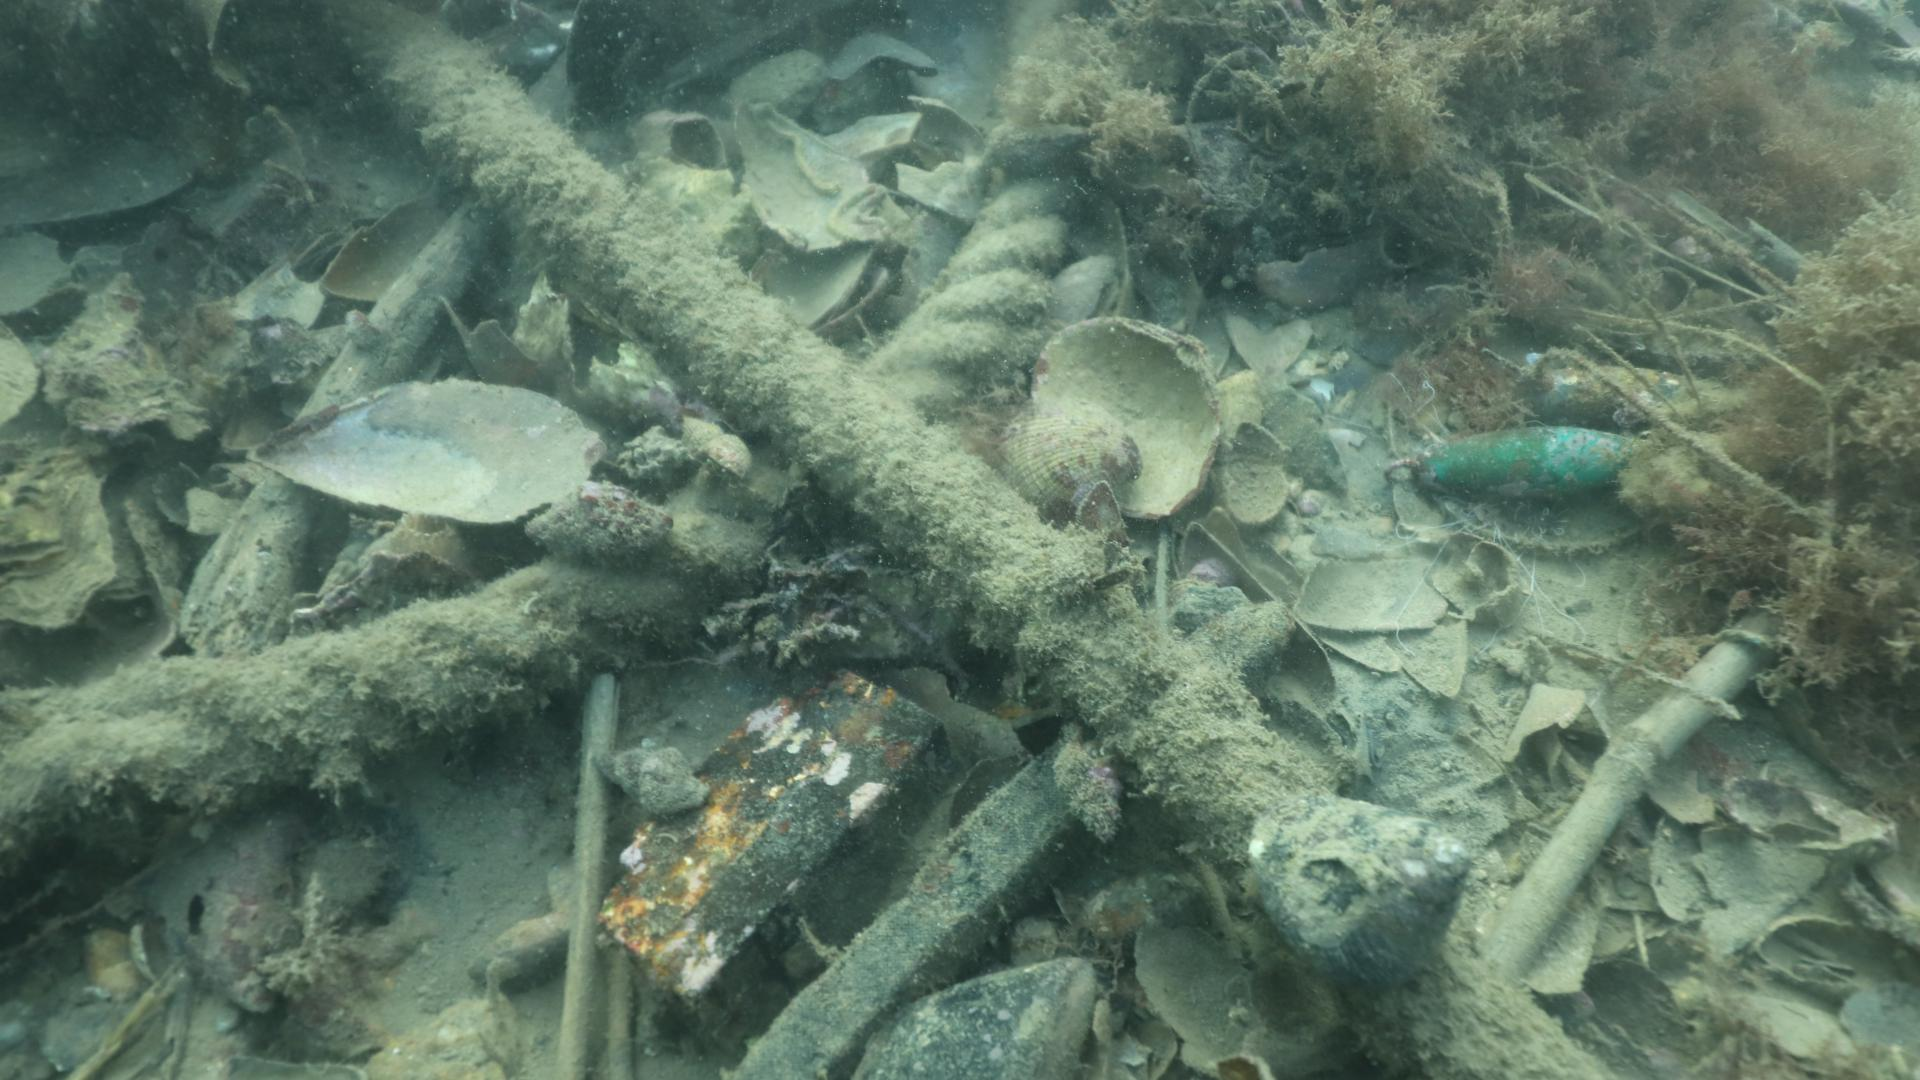rope: (0, 0, 1104, 848), (344, 0, 1296, 833)
